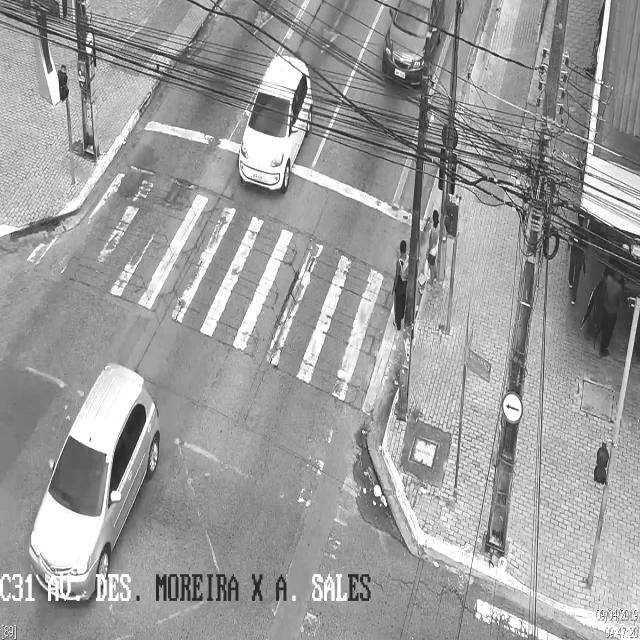Car: (30, 363, 158, 598), (238, 53, 312, 191), (382, 1, 446, 87)
